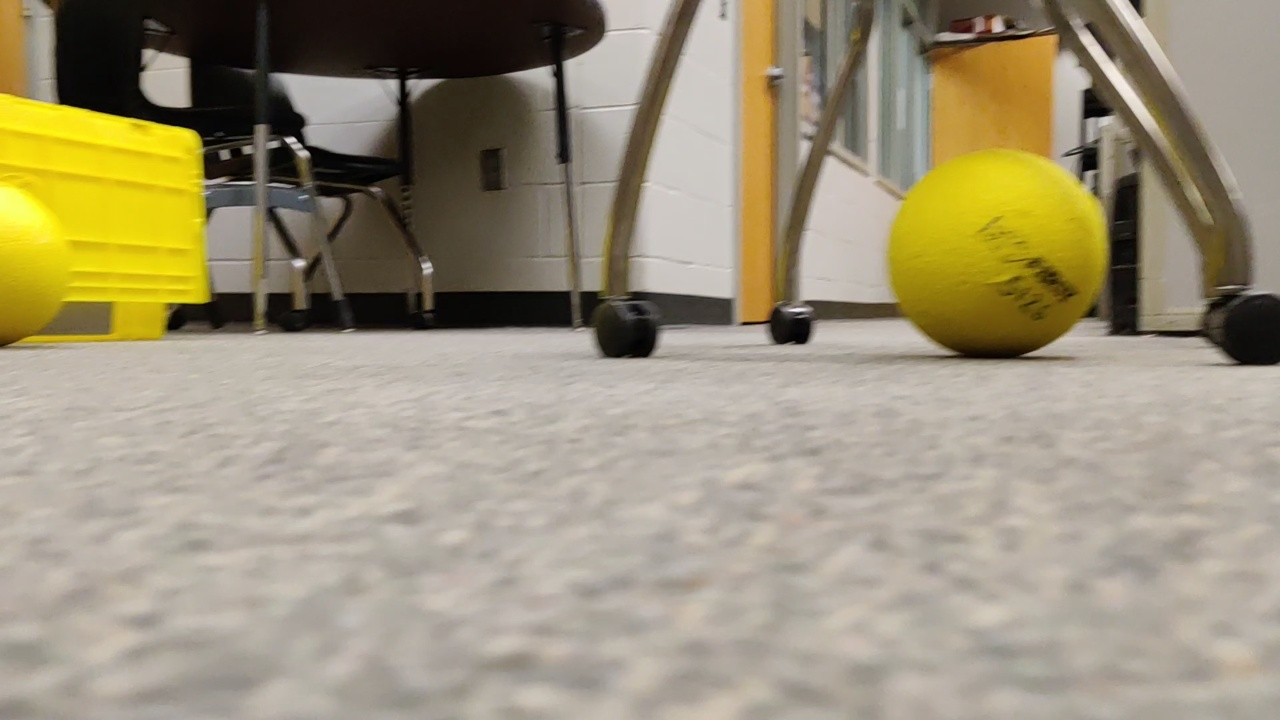Ball: (870, 150, 1114, 362), (1, 184, 73, 351)
